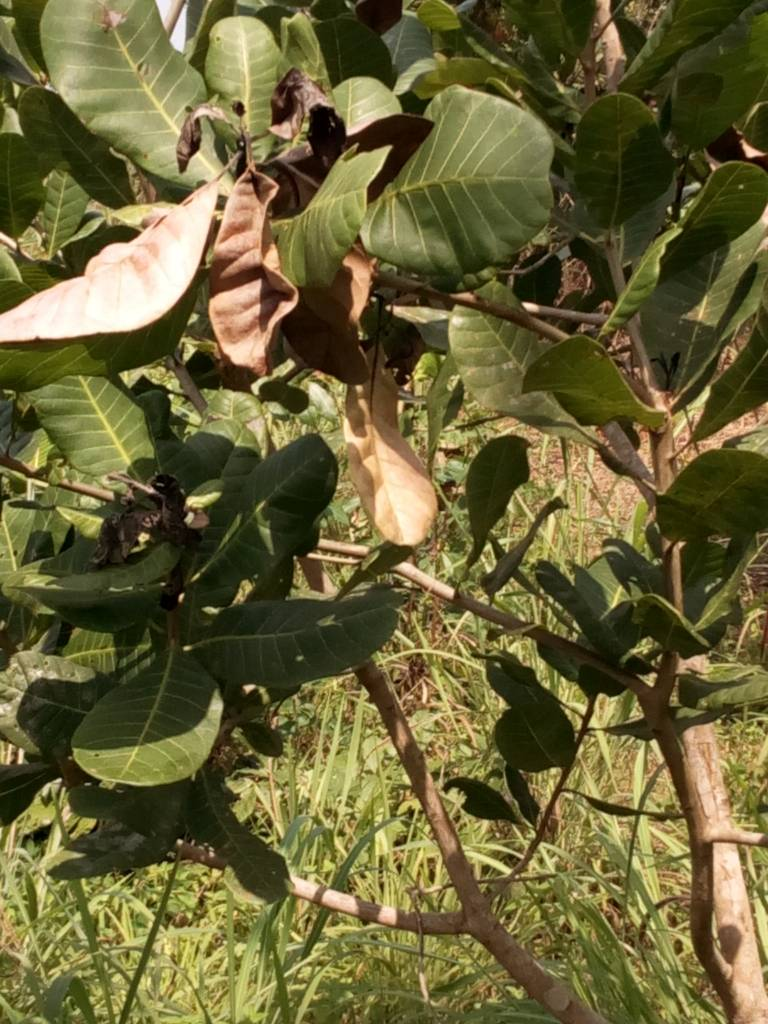Dessèchement des bourgeons: (90, 474, 200, 563), (175, 100, 243, 169), (265, 64, 332, 133)
